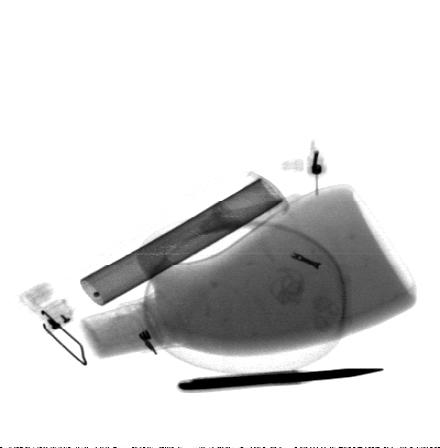Pliers: (175, 367, 388, 393)
